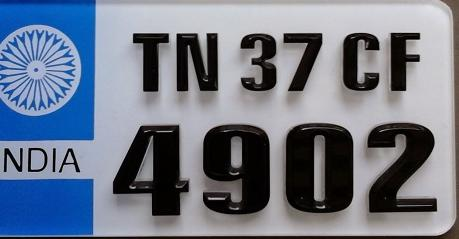0: (283, 120, 354, 213)
2: (364, 121, 440, 212)
3: (236, 31, 279, 90)
4: (111, 123, 190, 215)
7: (281, 30, 324, 91)
9: (198, 123, 271, 213)
C: (341, 31, 381, 92)
F: (387, 31, 420, 93)
N: (174, 31, 221, 91)
T: (129, 30, 169, 92)
